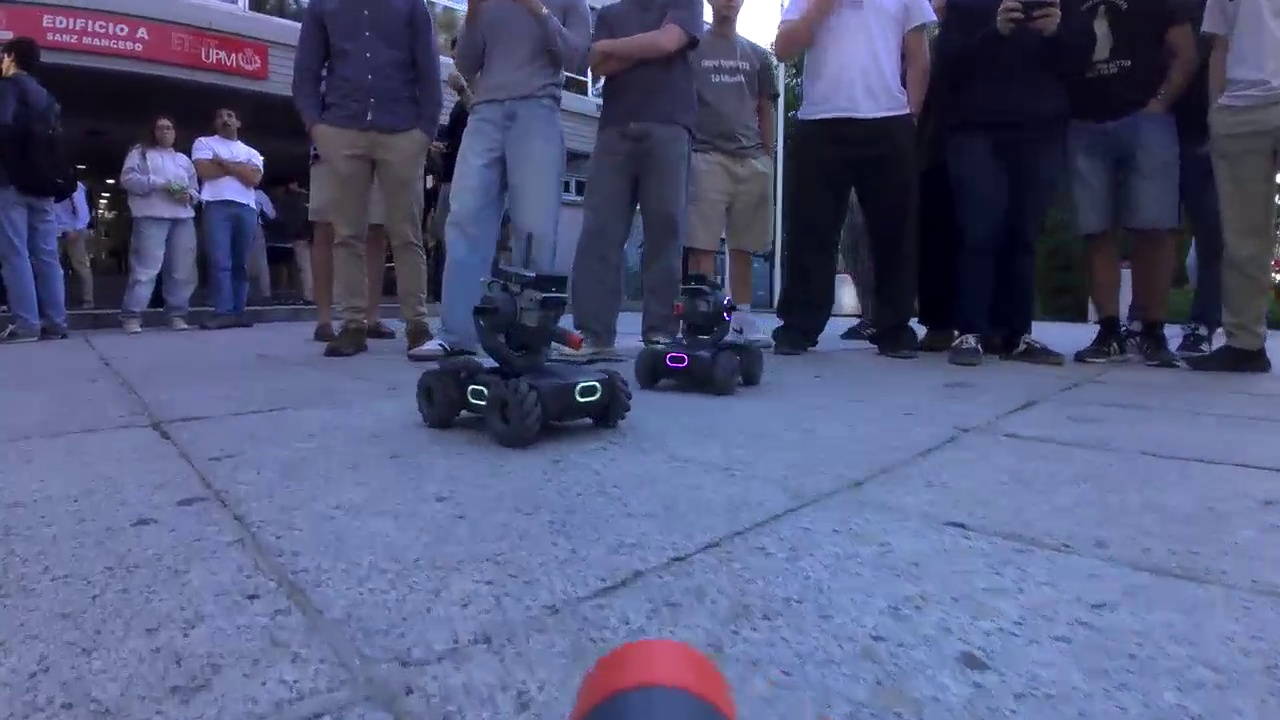robot: (417, 264, 634, 452), (635, 272, 765, 397)
